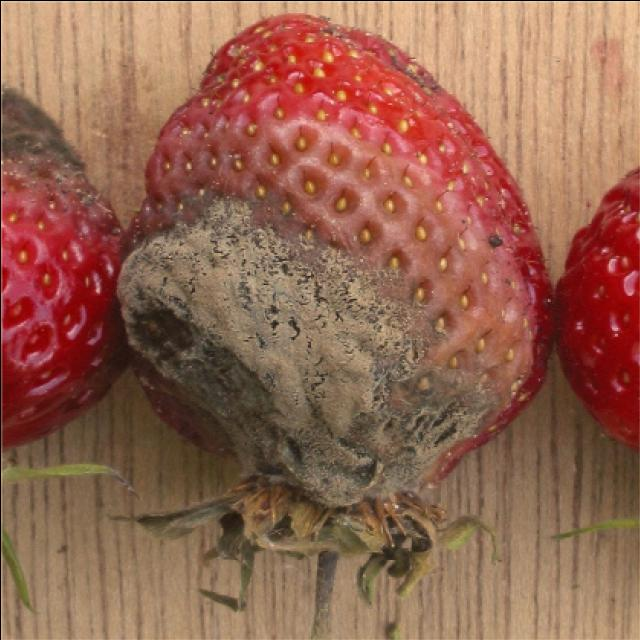Gray Mold: (115, 15, 554, 550), (2, 84, 127, 296)
